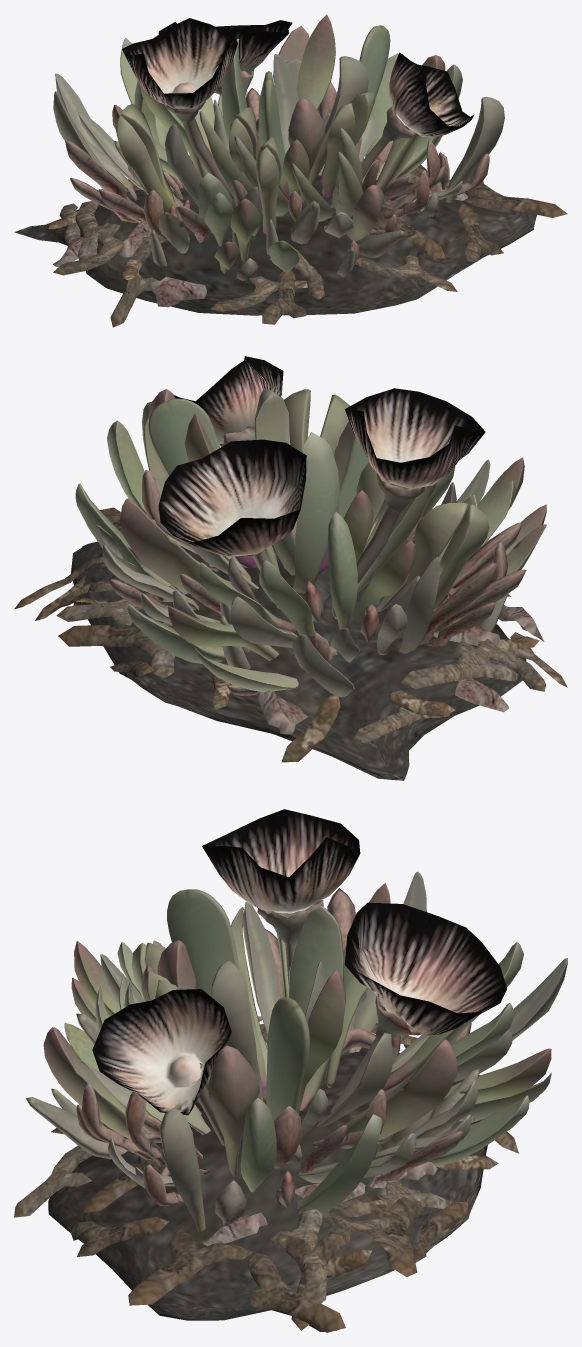
File: cheiridopsis_succulent_d.gltf
The picture shows the model from 3 angles, top to bottom: view 1: azimuth 30°, elevation 25°; view 2: azimuth 150°, elevation 25°; view 3: azimuth 270°, elevation 25°; orthographic projection. The views are drawn at different scales.
Parts seen in each view (by area): view 1: cheiridopsis_succulent_g_LOD0; view 2: cheiridopsis_succulent_g_LOD0; view 3: cheiridopsis_succulent_g_LOD0.
Boxes of the visible parts, x1,y1,x2,y2 form: cheiridopsis_succulent_g_LOD0: (14, 14, 567, 327); cheiridopsis_succulent_g_LOD0: (14, 356, 567, 780); cheiridopsis_succulent_g_LOD0: (14, 809, 567, 1332).
Size of the model in its own units: 0.5113 by 0.2694 by 0.4223.
Materials: 2 (2 with a texture image).
